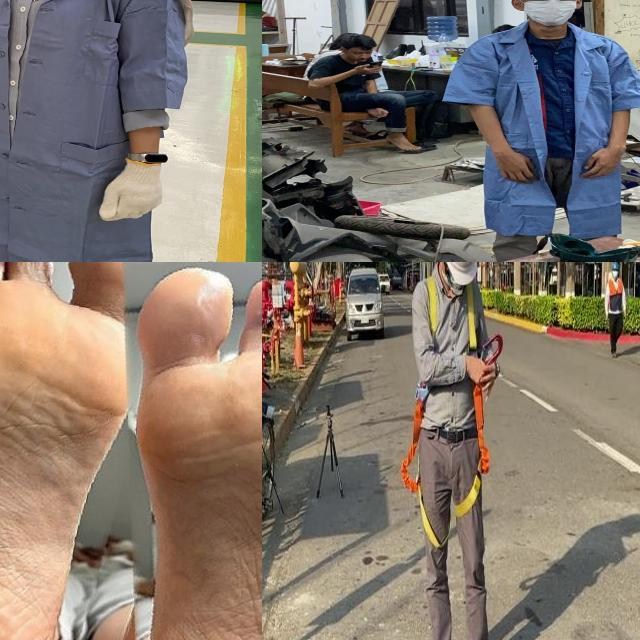Barefoots: (0, 262, 170, 640), (127, 267, 262, 640)
Harness: (401, 400, 443, 548), (455, 385, 491, 518)
face_mask: (518, 0, 580, 28)
face_nomask: (350, 49, 374, 62)
glasses: (513, 0, 580, 4)
hand_glove: (87, 157, 168, 227)
hand_noglove: (492, 147, 540, 183), (577, 144, 625, 180), (354, 63, 385, 76)
head_nohelmet: (340, 33, 380, 52)
person: (0, 0, 199, 262), (441, 0, 640, 262), (303, 32, 444, 156)
